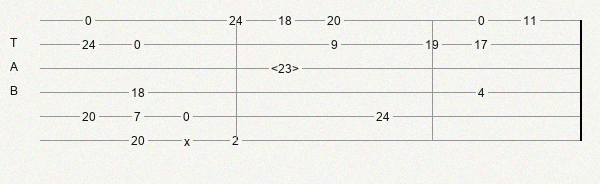0: (85, 14, 96, 27), (134, 38, 145, 51), (183, 110, 194, 123), (478, 14, 489, 27)
11: (523, 14, 541, 27)
17: (474, 38, 492, 51)
18: (131, 86, 149, 99), (278, 14, 296, 27)
19: (425, 38, 443, 51)
2: (232, 134, 243, 147)
20: (82, 110, 100, 123), (131, 134, 149, 147), (327, 14, 345, 27)
24: (82, 38, 100, 51), (229, 14, 247, 27), (376, 110, 394, 123)
4: (478, 86, 489, 99)
7: (134, 110, 145, 123)
9: (331, 38, 342, 51)
harmonic: (271, 62, 303, 75)
x: (184, 135, 194, 146)
